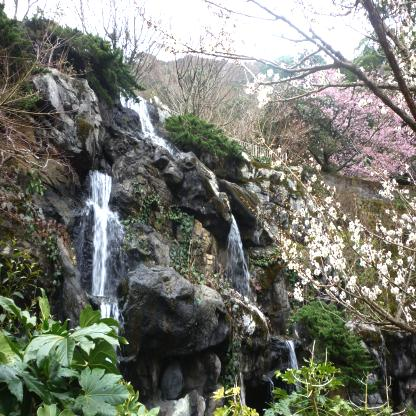Ume: (136, 0, 416, 337)
